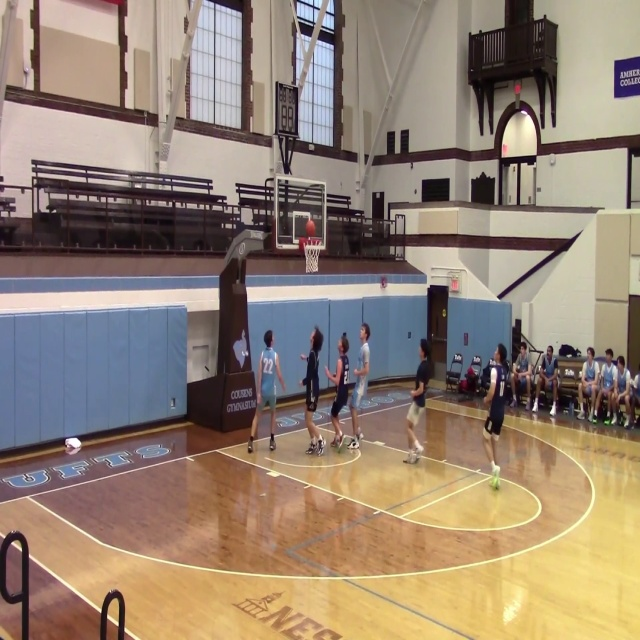Basketball: (64, 437, 82, 455), (306, 220, 315, 237), (380, 277, 387, 288)
